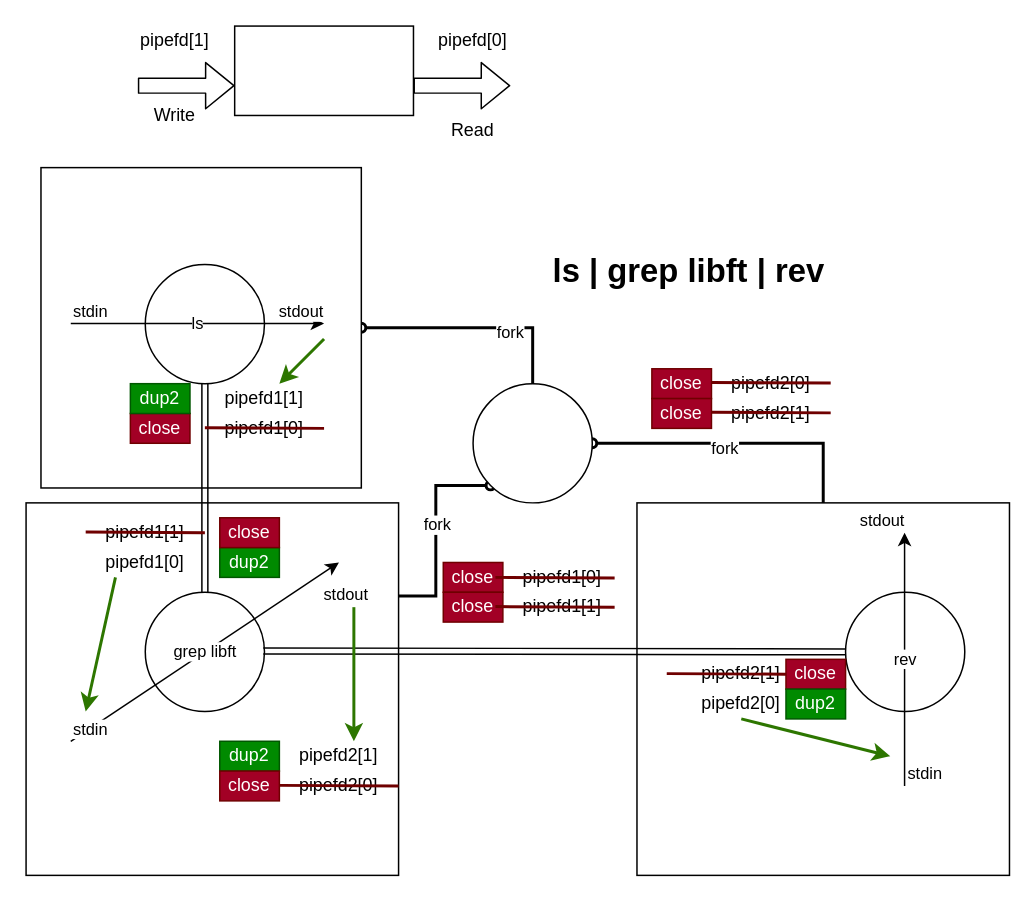
The diagram is 1036 pixels wide and 901 high, and some of its shapes have lost their labels. The centre of each missing label's shape, as x and y in pixels:
minishell: point (532, 442)
pipefd: point (323, 70)
